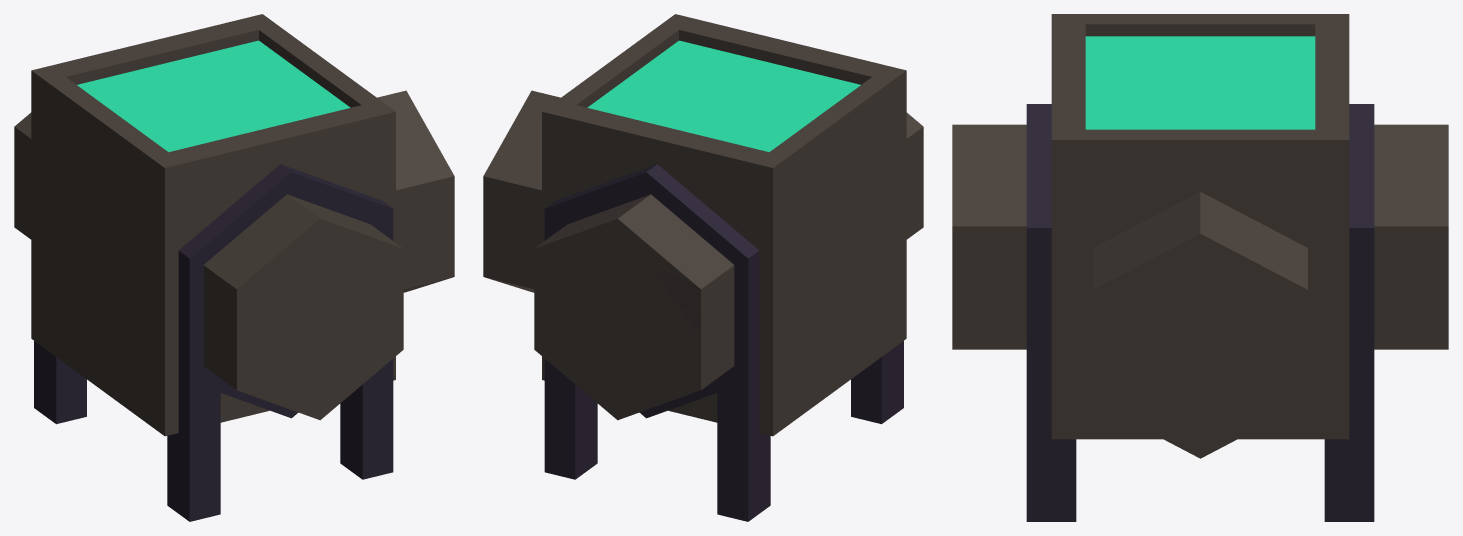
The model's file is Mixer.fbx.
The picture shows the model from 3 angles, left to right: view 1: azimuth 30°, elevation 25°; view 2: azimuth 150°, elevation 25°; view 3: azimuth 270°, elevation 25°; orthographic projection. The views are drawn at different scales.
Parts seen in each view (by area): view 1: Mixer_LOD0; view 2: Mixer_LOD0; view 3: Mixer_LOD0.
Part boxes in pixels (x1=…): Mixer_LOD0: x1=14, y1=14, x2=454, y2=521; Mixer_LOD0: x1=483, y1=14, x2=923, y2=521; Mixer_LOD0: x1=952, y1=14, x2=1448, y2=521.
Bounding box in the file's own units: 80 × 86.55 × 100.
